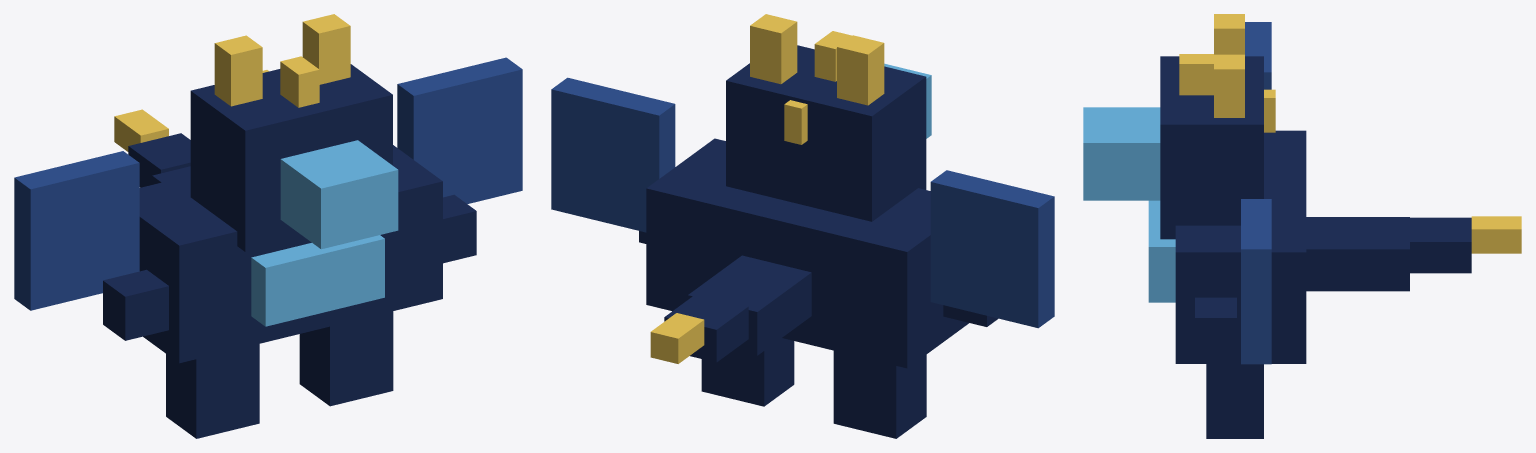
File: seoultech_dragon.obj
3 renders of one model, left to right at view 1: azimuth 30°, elevation 25°; view 2: azimuth 150°, elevation 25°; view 3: azimuth 270°, elevation 25°, orthographic. The views are drawn at different scales.
Parts seen in each view (by area): view 1: body, head, leftWing, rightWing, snout, belly, leftLeg, rightLeg, leftArm, leftHorn, rightHorn, tailMid (+3 smaller); view 2: body, head, leftWing, rightWing, leftLeg, tailBase, rightLeg, tailMid, leftHorn, rightHorn, tailTip, crestFront (+3 smaller); view 3: body, head, tailBase, snout, rightWing, rightLeg, tailMid, rightArm, belly, rightHorn, tailTip, crestFront (+3 smaller).
Boxes of the visible parts, x1,y1,x2,y2 form: body: [139, 145, 442, 363]; head: [190, 64, 392, 251]; leftWing: [14, 151, 139, 310]; rightWing: [397, 57, 522, 203]; snout: [280, 140, 398, 249]; belly: [251, 235, 384, 326]; leftLeg: [166, 344, 259, 438]; rightLeg: [299, 311, 393, 406]; leftArm: [103, 269, 168, 340]; leftHorn: [214, 35, 262, 106]; rightHorn: [302, 14, 350, 84]; tailMid: [128, 133, 190, 187]; body: [646, 138, 968, 368]; head: [726, 45, 926, 221]; leftWing: [930, 170, 1054, 328]; rightWing: [551, 77, 675, 232]; leftLeg: [833, 350, 926, 438]; tailBase: [688, 255, 811, 355]; rightLeg: [701, 338, 794, 406]; tailMid: [664, 293, 748, 362]; leftHorn: [837, 35, 884, 105]; rightHorn: [750, 14, 797, 84]; tailTip: [650, 313, 704, 363]; crestFront: [814, 31, 851, 81]; body: [1175, 130, 1306, 363]; head: [1160, 56, 1263, 239]; tailBase: [1306, 217, 1409, 291]; snout: [1083, 107, 1160, 200]; rightWing: [1241, 199, 1271, 364]; rightLeg: [1206, 364, 1263, 438]; tailMid: [1410, 217, 1471, 273]; rightArm: [1195, 297, 1236, 359]; belly: [1148, 200, 1175, 302]; rightHorn: [1214, 54, 1244, 117]; tailTip: [1471, 216, 1521, 253]; crestFront: [1179, 54, 1213, 95].
Bounding box in the file's own units: 2.8 × 2.02 × 2.28.
